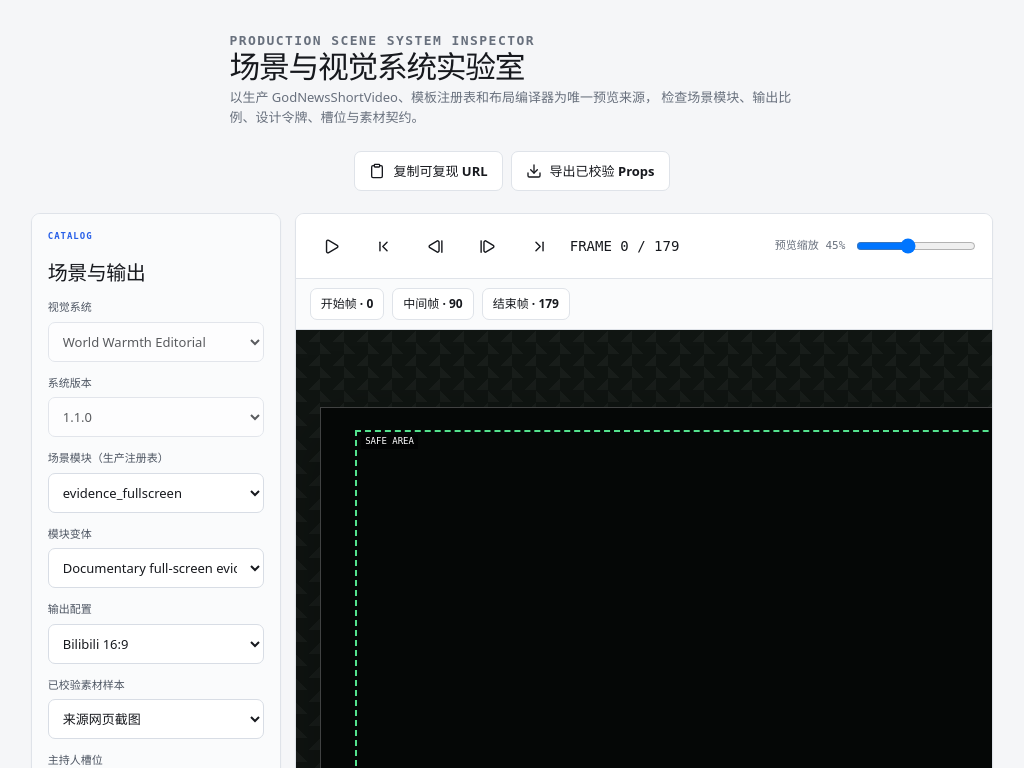
it: TemplateLabPage › stops instead of drawing a fake host when Live2D media is missing
Select "主持人 + 志愿者横图" in the dropdown labelled "已校验素材样本": (156, 720) [48,700,264,740]
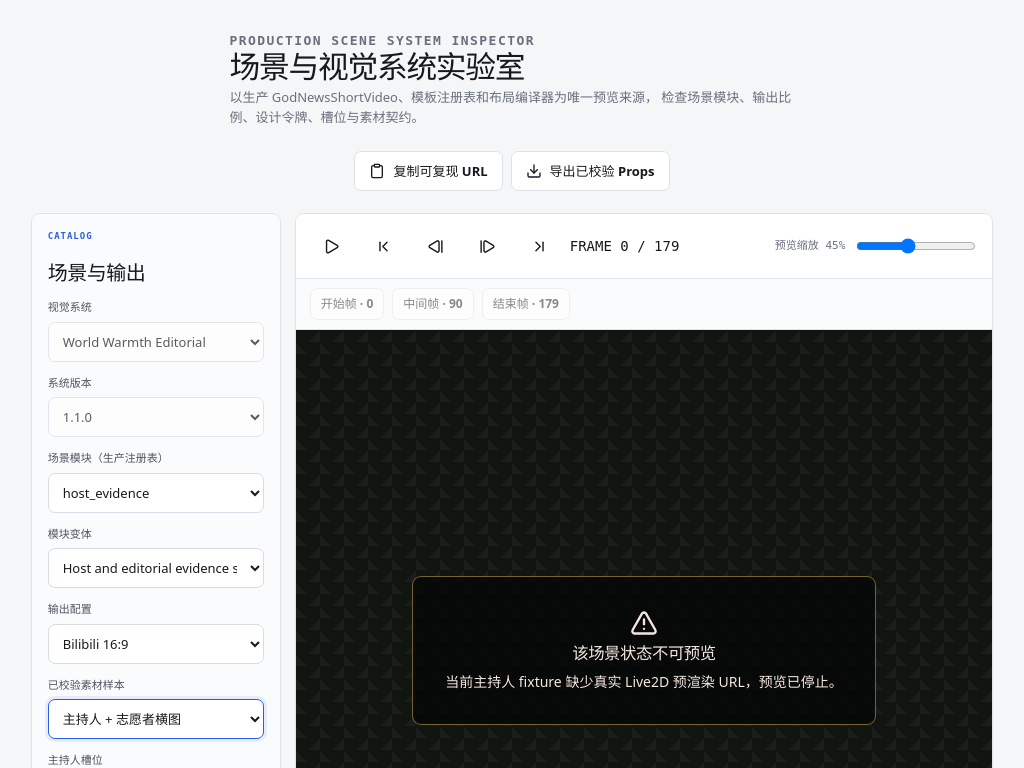
Now the heading "该场景状态不可预览" is shown, box [572,645,716,663]
Now the text "当前主持人 fixture 缺少真实 Live2D 预渲染 URL，预览已停止。" is shown, box [445,671,843,692]
